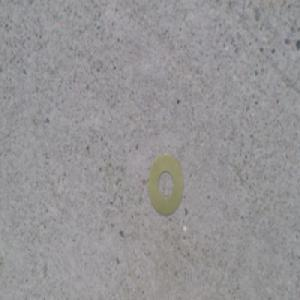Washer: (148, 150, 185, 214)
